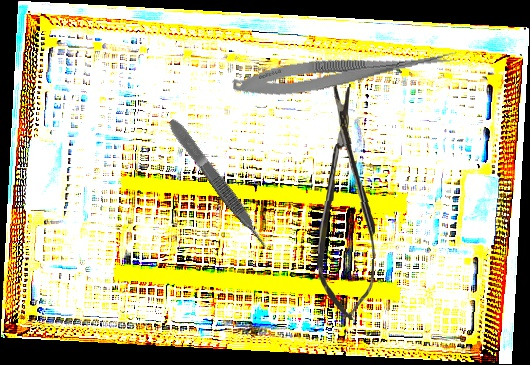Micro Scissor: (230, 37, 460, 104), (316, 83, 378, 320)
Tissue Forceps: (165, 115, 271, 253)
